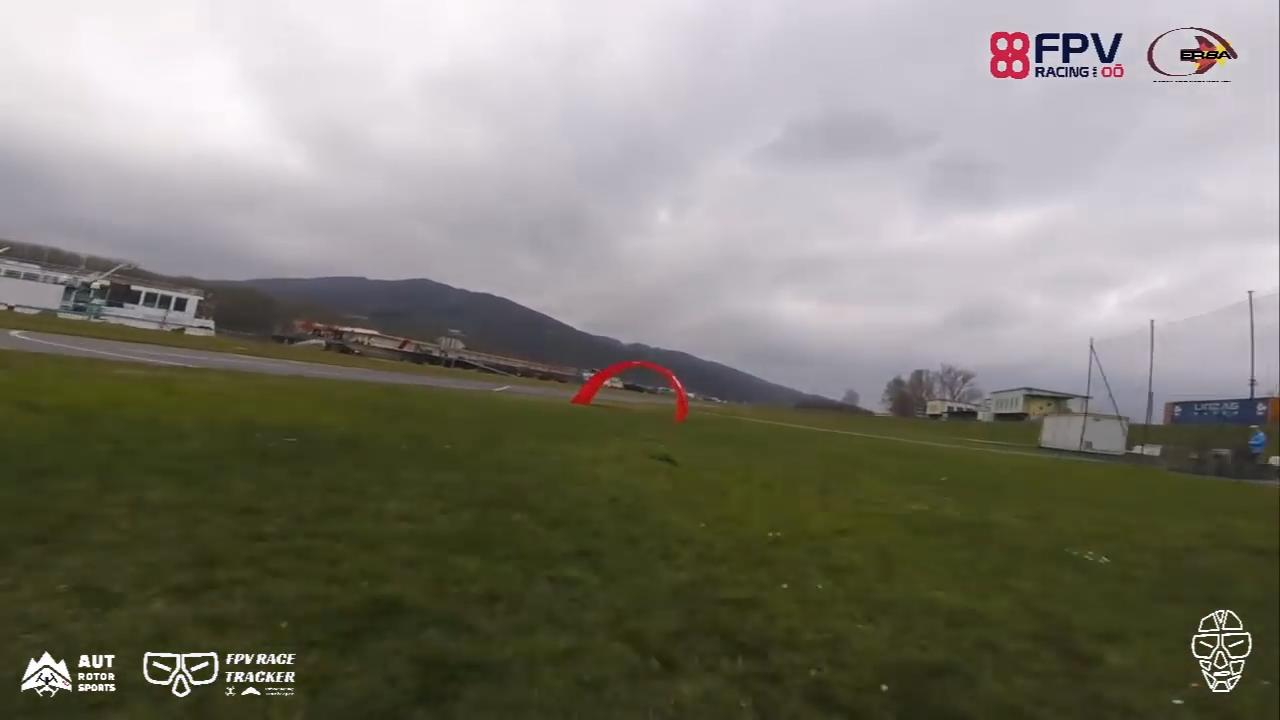gate: (566, 358, 691, 428)
